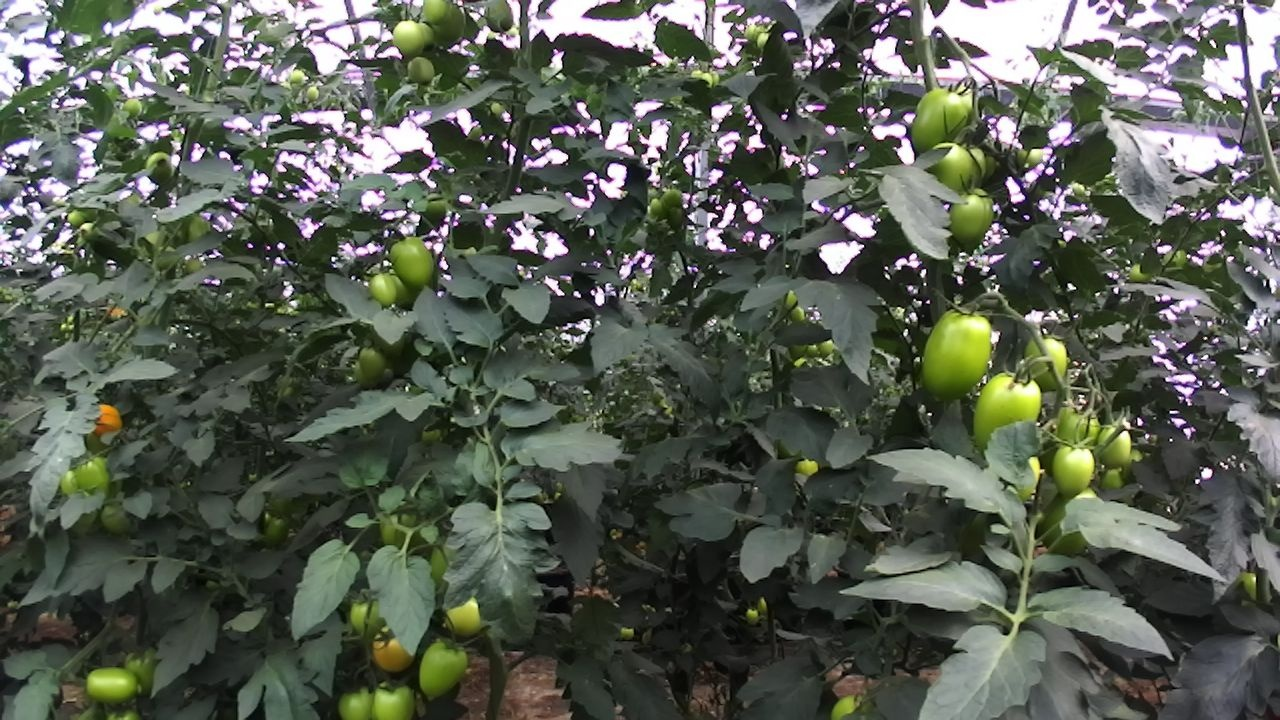tomato: (910, 287, 1005, 417), (964, 350, 1051, 460), (914, 126, 994, 209), (905, 74, 978, 164), (1015, 322, 1080, 402), (410, 628, 480, 700), (1048, 426, 1107, 511), (940, 182, 1001, 263), (377, 227, 447, 296), (76, 655, 151, 716), (361, 612, 427, 680), (1052, 390, 1111, 461), (76, 389, 139, 453), (414, 0, 476, 63), (340, 583, 400, 647), (385, 11, 445, 64), (358, 265, 413, 317), (1091, 416, 1137, 477), (351, 332, 400, 389), (324, 677, 387, 720), (364, 673, 421, 720), (69, 449, 120, 499), (478, 0, 523, 48), (397, 49, 445, 92), (259, 508, 294, 550)
